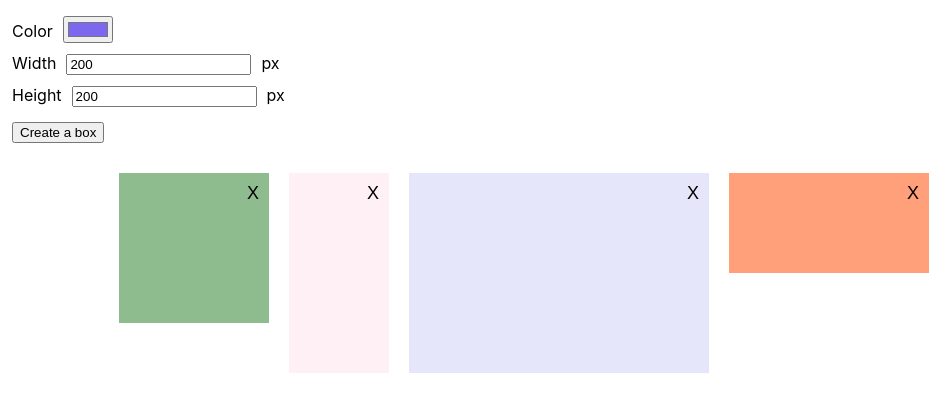
Test: tests for the form › fails: invalid width/height
Type "#6b8e23" into the colour field labelled "Color" at coordinates (88, 30), box [63,16,113,43]
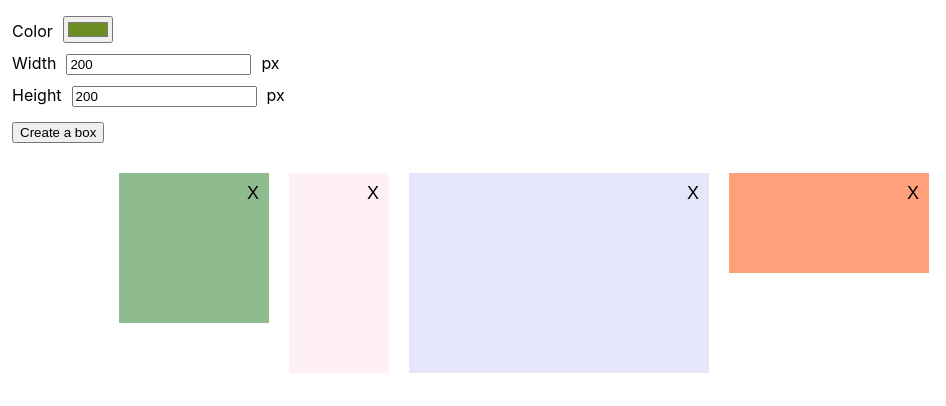
Replace the text in the number field labelled "Width" with "-200" at coordinates (159, 64), box [66,54,251,75]
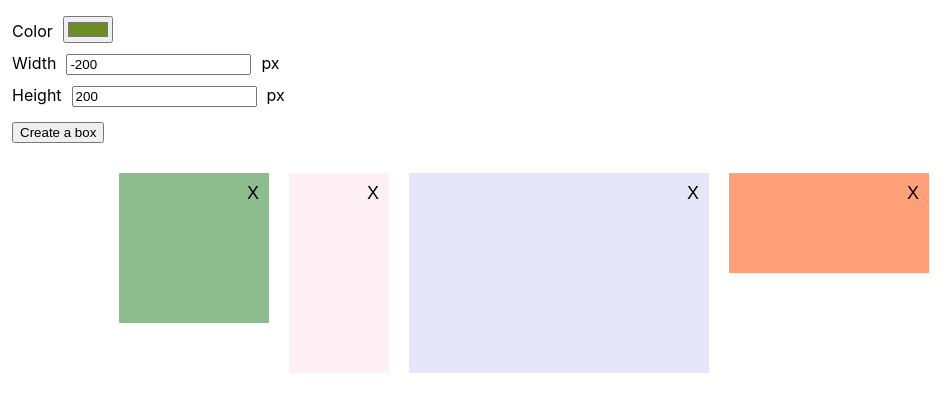
Click the button with test id "submit-form-button" at coordinates (58, 132), box [12,122,104,143]
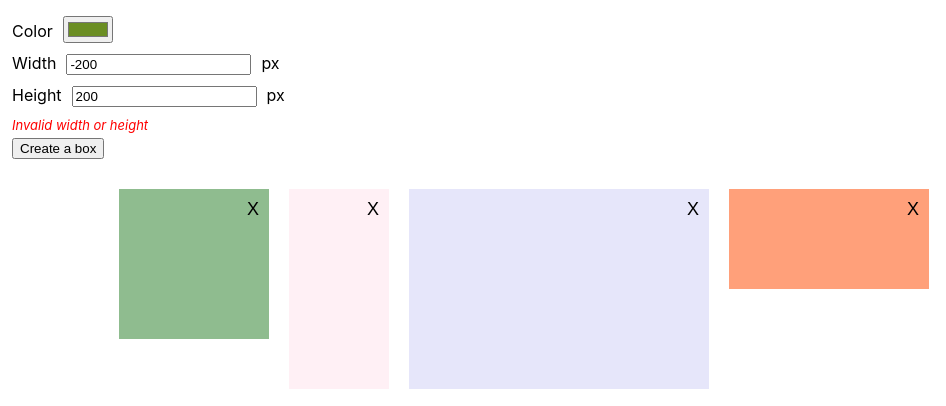
Check: the text "Invalid width or height" is shown, box [12,117,148,133]
